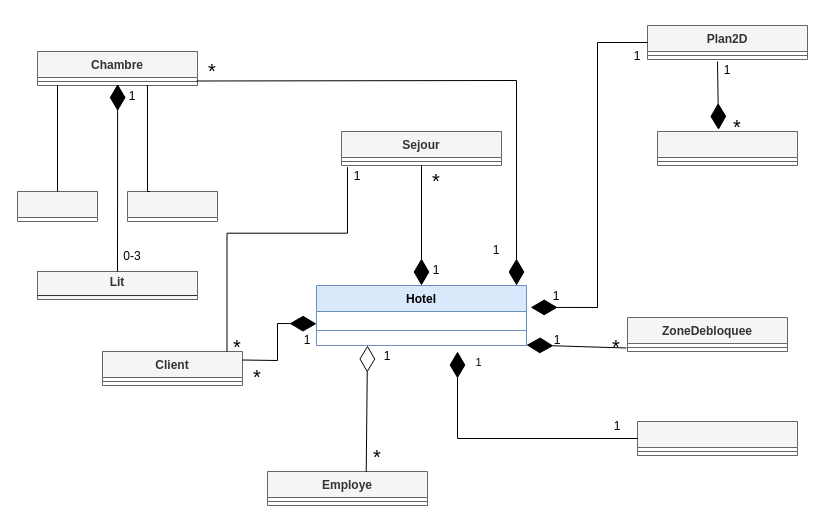
This 825x523 diagram has some shape labels left out. Here are the shapes that lost their labels. From the top down, the box of each, then its label:
(656, 130, 798, 166): Case
(16, 190, 98, 222): Position
(126, 190, 218, 222): Dimension
(636, 420, 798, 456): Progression
